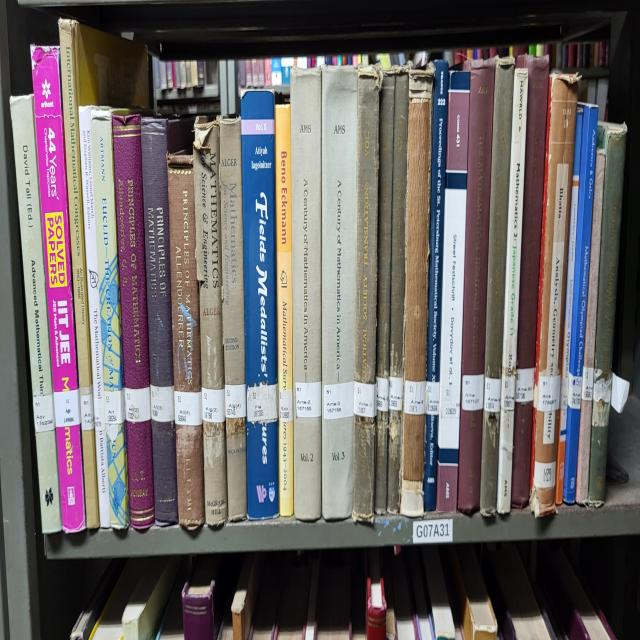Book: (59, 19, 149, 528), (31, 46, 85, 530), (10, 95, 61, 533), (530, 73, 578, 517), (141, 119, 192, 525), (112, 114, 154, 530), (511, 62, 549, 509), (458, 62, 495, 514), (321, 68, 358, 519), (241, 89, 279, 519), (480, 57, 515, 517), (91, 108, 129, 528), (400, 70, 434, 517), (436, 70, 470, 511), (290, 68, 322, 522), (496, 68, 528, 514), (589, 122, 626, 506), (168, 152, 205, 530), (194, 119, 228, 525), (564, 106, 598, 503), (352, 65, 381, 522), (79, 106, 110, 528), (424, 60, 449, 511), (220, 119, 248, 519), (555, 106, 582, 503), (575, 149, 605, 503), (388, 68, 409, 514), (375, 70, 395, 514), (275, 106, 294, 517)
Label: (246, 384, 278, 422), (592, 365, 611, 427), (324, 381, 354, 419), (105, 390, 125, 441), (54, 390, 80, 427), (150, 384, 175, 422), (124, 387, 151, 422), (295, 381, 321, 417), (174, 392, 202, 425), (201, 387, 225, 425), (32, 395, 55, 433), (461, 373, 484, 411), (538, 376, 561, 411), (354, 381, 376, 417), (404, 379, 426, 414), (225, 384, 246, 419), (515, 368, 535, 403), (484, 376, 501, 414), (442, 384, 460, 417), (80, 392, 94, 430), (501, 376, 515, 411), (568, 373, 581, 409), (426, 381, 440, 414), (376, 376, 389, 411), (389, 376, 402, 411), (581, 365, 594, 400), (94, 390, 105, 430), (279, 390, 292, 422), (561, 371, 569, 411)
